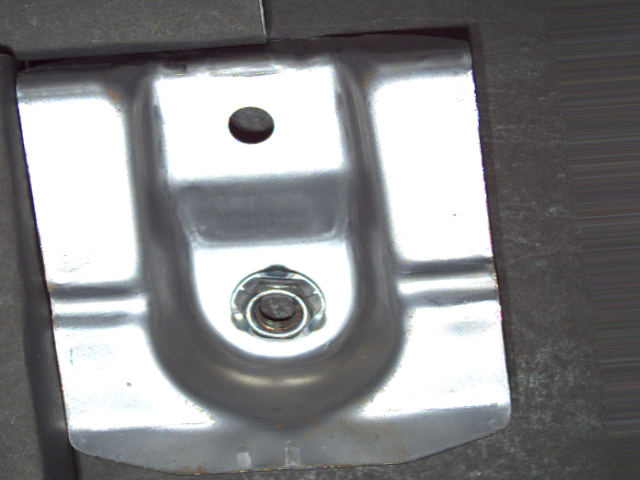good: (227, 263, 332, 344)
